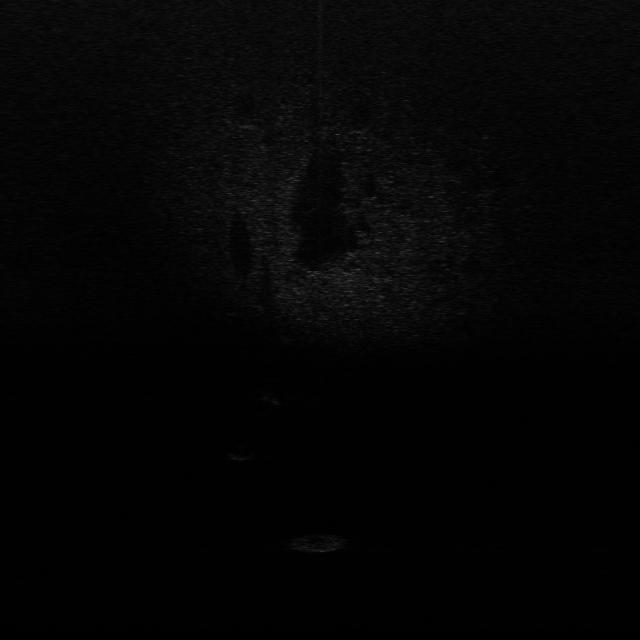ball: (227, 441, 256, 462)
circle cage: (283, 530, 353, 555)
human body: (260, 376, 284, 416)
